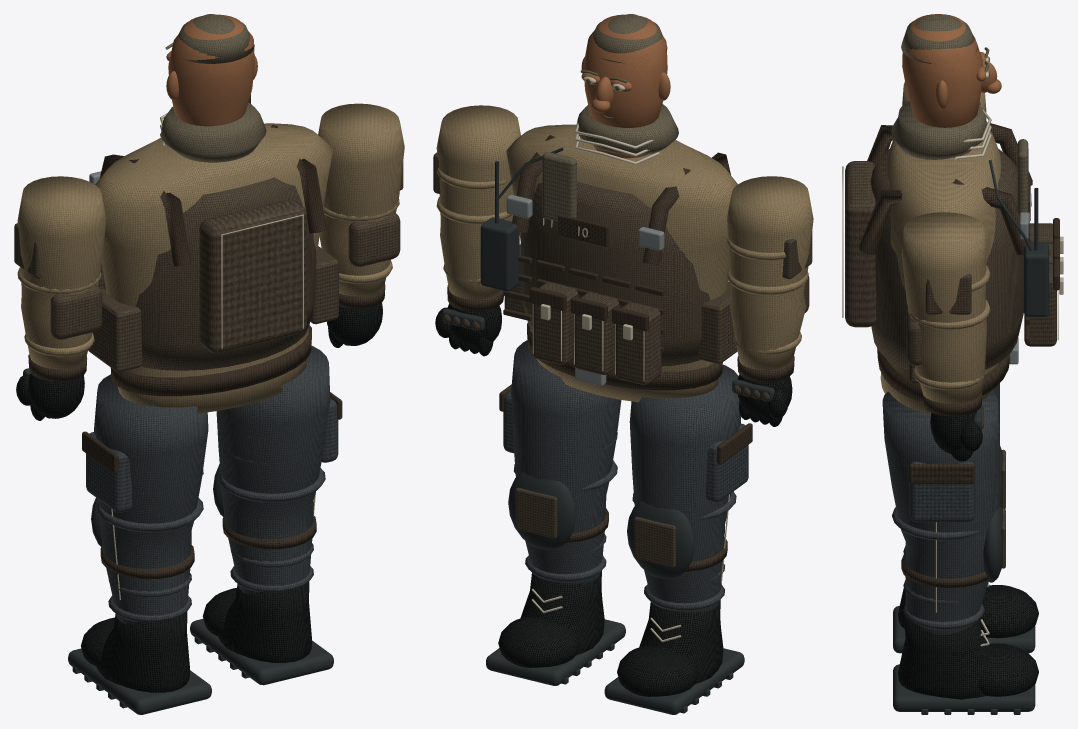
Rendered from operator-t.glb.
3 views of the same model, side by side, from view 1: azimuth 30°, elevation 25°; view 2: azimuth 150°, elevation 25°; view 3: azimuth 270°, elevation 25° (orthographic). The views are drawn at different scales.
Visible parts, largest first — view 1: torso.001_t_umber_carrier, legL.001_t_charcoal_denim, torso.001_t_sand_canvas, legR.001_t_charcoal_denim, armL.001_t_sand_canvas, armR.001_t_sand_canvas, torso.001_t_molle, legL.001_black_leather_t, legR.001_black_leather_t, head.001_skin_t, head.001_t_woven_scarf, legL.001_rubber_t (+8 smaller); view 2: torso.001_t_umber_carrier, legL.001_t_charcoal_denim, legR.001_t_charcoal_denim, torso.001_t_sand_canvas, armL.001_t_sand_canvas, armR.001_t_sand_canvas, torso.001_t_molle, legL.001_black_leather_t, legR.001_black_leather_t, head.001_skin_t, legL.001_rubber_t, legR.001_rubber_t (+14 smaller); view 3: legR.001_t_charcoal_denim, torso.001_t_umber_carrier, armR.001_t_sand_canvas, torso.001_t_sand_canvas, legR.001_black_leather_t, head.001_skin_t, torso.001_t_molle, head.001_t_woven_scarf, legR.001_rubber_t, legL.001_black_leather_t, torso.001_rubber_t, legR.001_t_molle (+8 smaller).
Boxes of the visible parts, bbox=[...] form: torso.001_t_umber_carrier: bbox=[88, 177, 338, 371]; legL.001_t_charcoal_denim: bbox=[86, 374, 208, 624]; torso.001_t_sand_canvas: bbox=[95, 123, 333, 413]; legR.001_t_charcoal_denim: bbox=[216, 345, 338, 594]; armL.001_t_sand_canvas: bbox=[17, 176, 106, 370]; armR.001_t_sand_canvas: bbox=[318, 103, 404, 297]; torso.001_t_molle: bbox=[100, 125, 326, 396]; legL.001_black_leather_t: bbox=[81, 611, 190, 692]; legR.001_black_leather_t: bbox=[202, 581, 312, 662]; head.001_skin_t: bbox=[166, 14, 257, 126]; head.001_t_woven_scarf: bbox=[160, 14, 266, 162]; legL.001_rubber_t: bbox=[68, 497, 211, 714]; torso.001_t_umber_carrier: bbox=[504, 181, 737, 385]; legL.001_t_charcoal_denim: bbox=[629, 364, 748, 612]; legR.001_t_charcoal_denim: bbox=[503, 340, 621, 583]; torso.001_t_sand_canvas: bbox=[506, 124, 737, 402]; armL.001_t_sand_canvas: bbox=[727, 176, 813, 369]; armR.001_t_sand_canvas: bbox=[436, 105, 520, 299]; torso.001_t_molle: bbox=[503, 135, 730, 390]; legL.001_black_leather_t: bbox=[617, 600, 723, 696]; legR.001_black_leather_t: bbox=[498, 571, 604, 667]; head.001_skin_t: bbox=[581, 14, 670, 127]; legL.001_rubber_t: bbox=[604, 501, 744, 714]; legR.001_rubber_t: bbox=[486, 472, 625, 685]; legR.001_t_charcoal_denim: bbox=[882, 391, 999, 635]; torso.001_t_umber_carrier: bbox=[845, 148, 1056, 383]; armR.001_t_sand_canvas: bbox=[901, 212, 990, 403]; torso.001_t_sand_canvas: bbox=[880, 131, 1001, 413]; legR.001_black_leather_t: bbox=[898, 611, 1038, 699]; head.001_skin_t: bbox=[902, 14, 1001, 127]; torso.001_t_molle: bbox=[859, 123, 1059, 401]; head.001_t_woven_scarf: bbox=[891, 15, 989, 159]; legR.001_rubber_t: bbox=[893, 504, 1035, 714]; legL.001_black_leather_t: bbox=[898, 553, 1038, 638]; torso.001_rubber_t: bbox=[989, 160, 1048, 316]; legR.001_t_molle: bbox=[901, 464, 988, 587].
Bounding box in the file's own units: 1.11 × 1.86 × 0.5757.
Materials: 11 (7 with a texture image).
